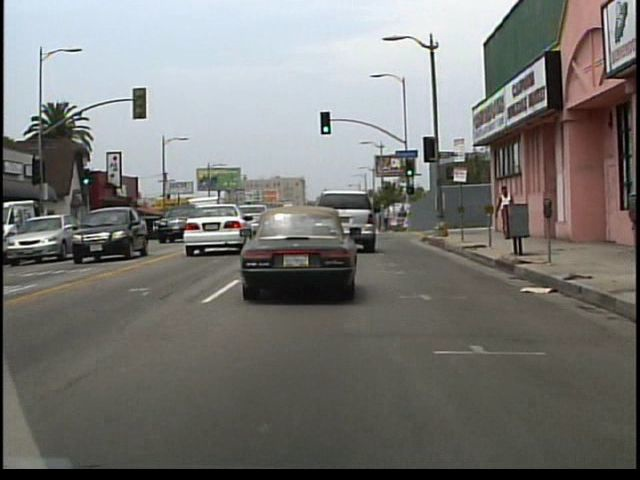person: (494, 182, 519, 241)
